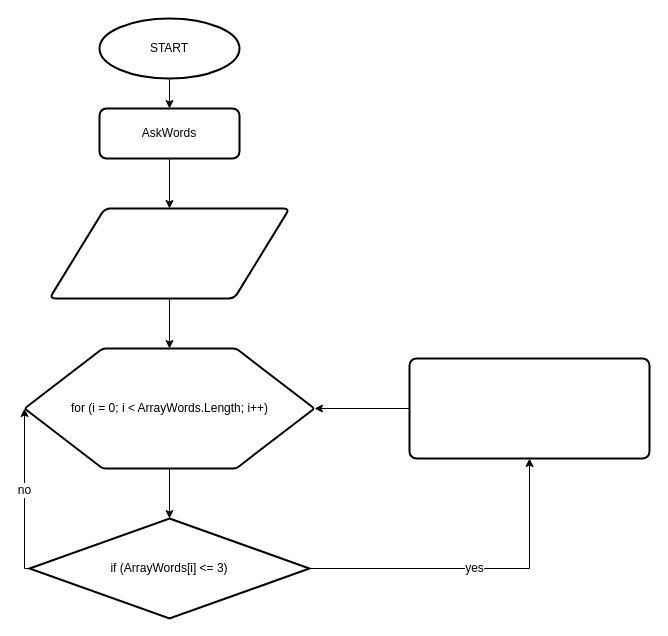
This 668x636 diagram has some shape labels left out. The shapes that lost their labels are listed below. From the top down, each one's centre as x and y in pixels, then its label:
(169,253): string[] ArrayWords string[] ArrayWords2 int count = 0
(529,408): ArrayWords2[count] = ArrayWords[i] count++;
